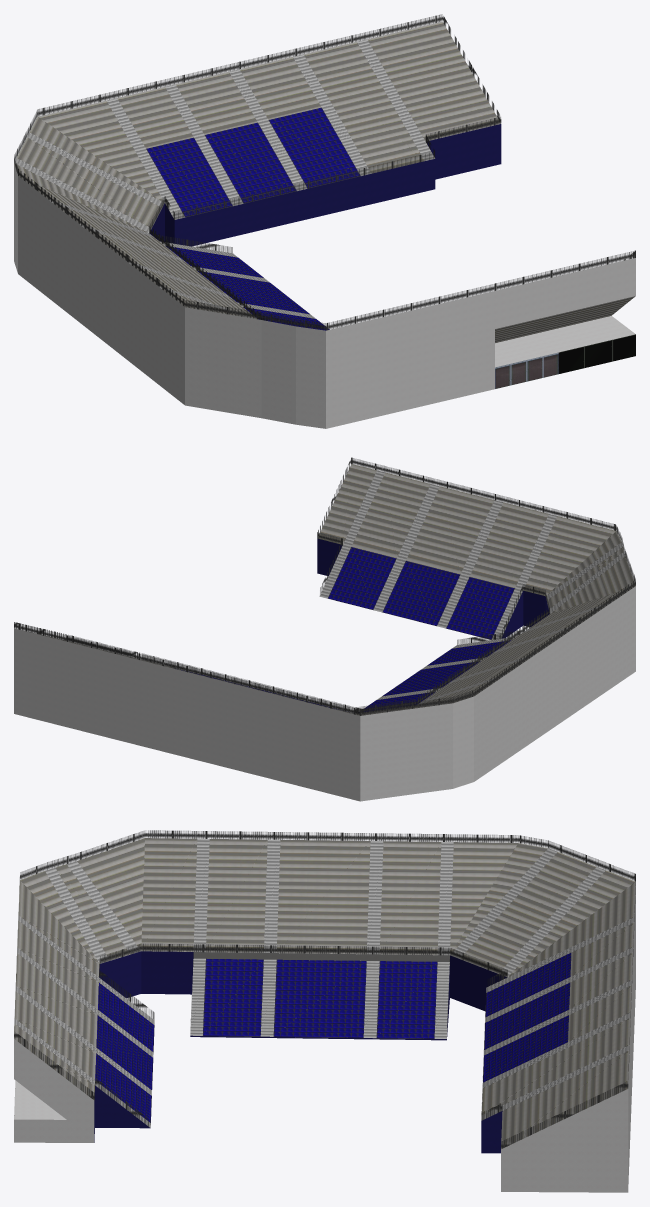
The model's file is straus-stands.glb.
The picture shows the model from 3 angles, top to bottom: view 1: azimuth 30°, elevation 25°; view 2: azimuth 150°, elevation 25°; view 3: azimuth 270°, elevation 25°; orthographic projection. The views are drawn at different scales.
Parts seen in each view (by area): view 1: Mesh_1; view 2: Mesh_1; view 3: Mesh_1.
Part boxes in pixels (x1,y1,x2,y2): Mesh_1: [14, 14, 635, 428]; Mesh_1: [14, 457, 635, 801]; Mesh_1: [14, 830, 635, 1192].
Bounding box in the file's own units: 70.02 × 14.55 × 73.4.
12 materials, 10 textured.
